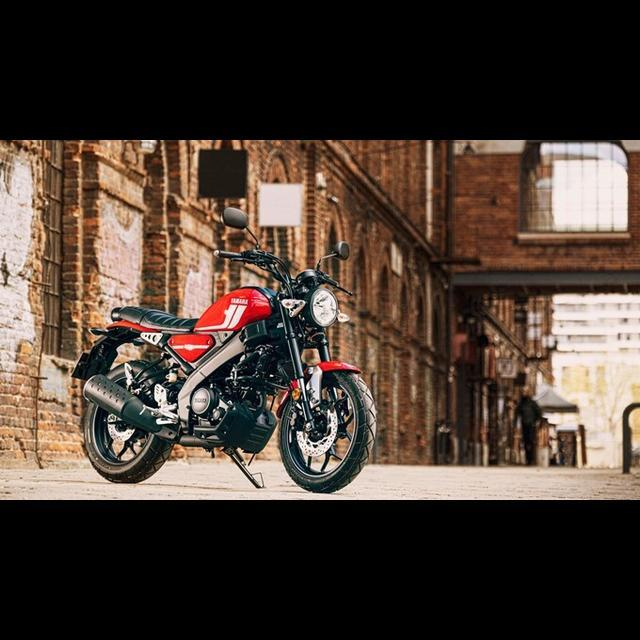motorcycle: (65, 199, 386, 493)
